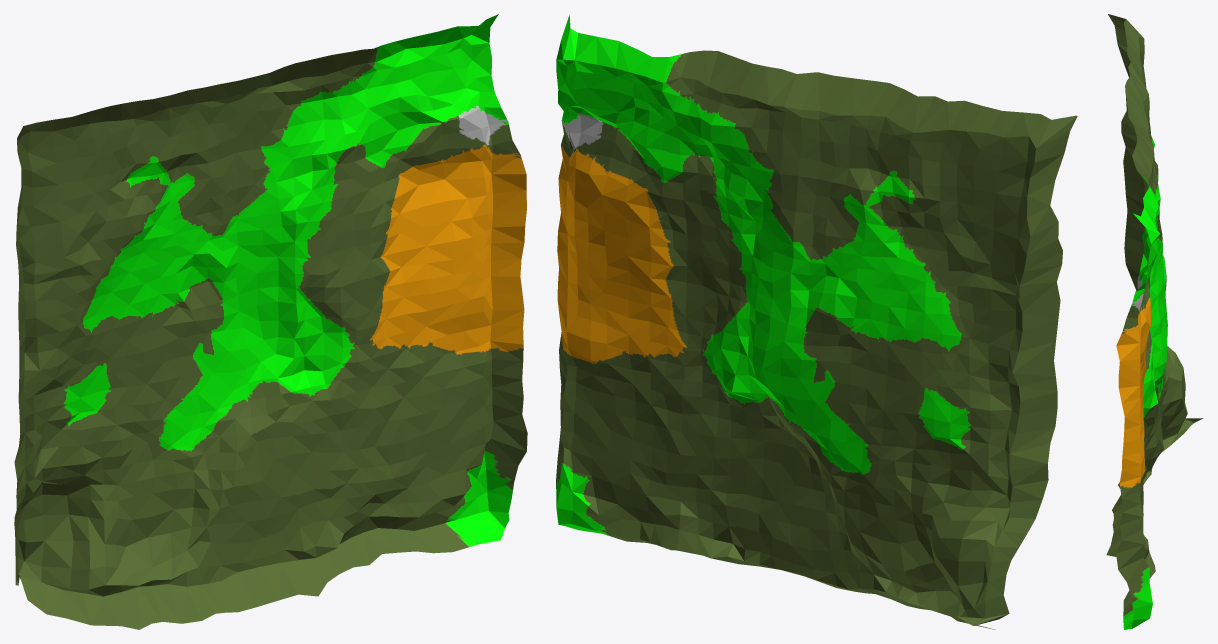
File: refine_semantic.obj
3 views of the same model, side by side, from view 1: azimuth 30°, elevation 25°; view 2: azimuth 150°, elevation 25°; view 3: azimuth 270°, elevation 25° (orthographic). The views are drawn at different scales.
Bounding box in the file's own units: 333 × 329 × 67.92.
1 material, 1 textured.
